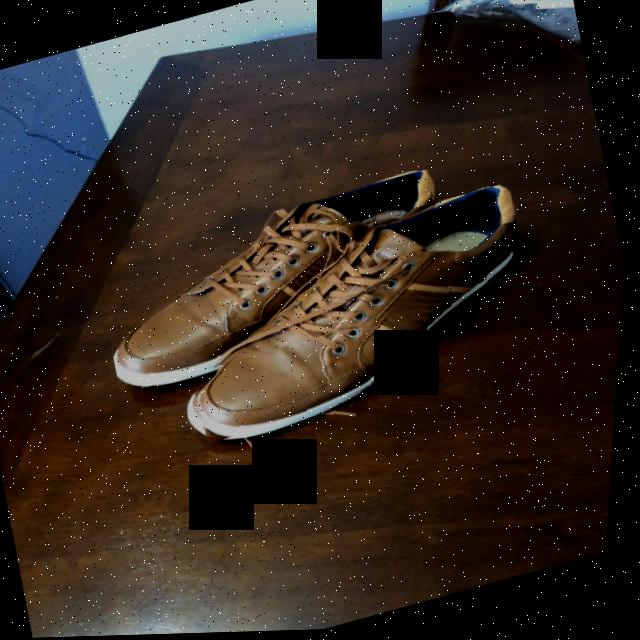shoe: (204, 189, 521, 438), (118, 173, 430, 383)
